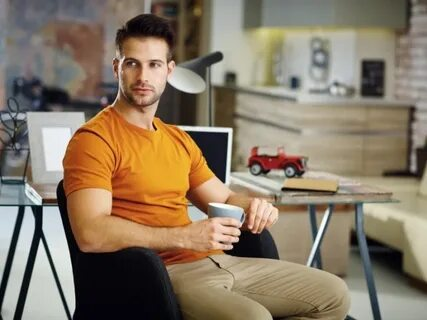awake: (61, 12, 352, 320)
